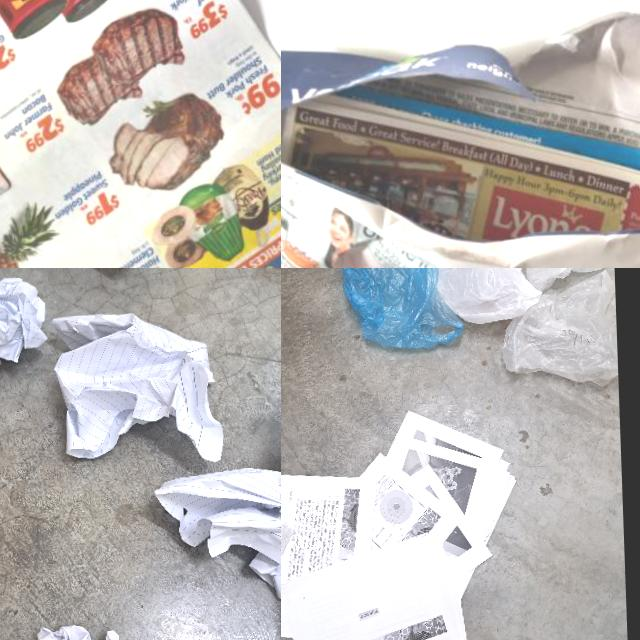papel: (281, 2, 640, 268), (0, 0, 281, 268), (281, 405, 523, 640), (49, 308, 222, 467), (154, 467, 281, 604), (0, 275, 48, 372)
sacola plástica: (496, 268, 617, 390), (340, 268, 465, 350), (431, 268, 543, 323), (523, 268, 614, 294)
